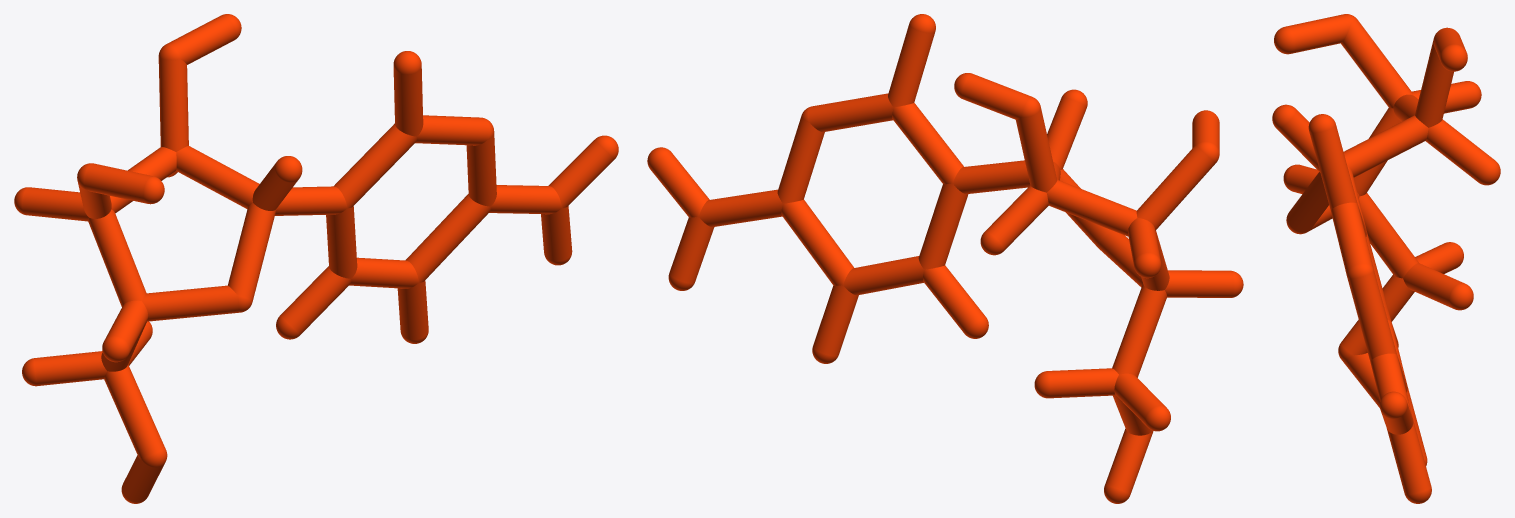
File: cytidine.glb
The picture shows the model from 3 angles, left to right: view 1: azimuth 30°, elevation 25°; view 2: azimuth 150°, elevation 25°; view 3: azimuth 270°, elevation 25°; orthographic projection. The views are drawn at different scales.
Parts seen in each view (by area): view 1: bonds, atoms; view 2: bonds, atoms; view 3: bonds, atoms.
Part boxes in pixels (x1=…): bonds: x1=22, y1=15, x2=613, y2=501; atoms: x1=14, y1=14, x2=618, y2=503; bonds: x1=650, y1=25, x2=1233, y2=494; atoms: x1=647, y1=14, x2=1243, y2=503; bonds: x1=1277, y1=14, x2=1494, y2=494; atoms: x1=1272, y1=14, x2=1500, y2=503.
Bounding box in the file's own units: 9.23 × 6.79 × 3.28.
